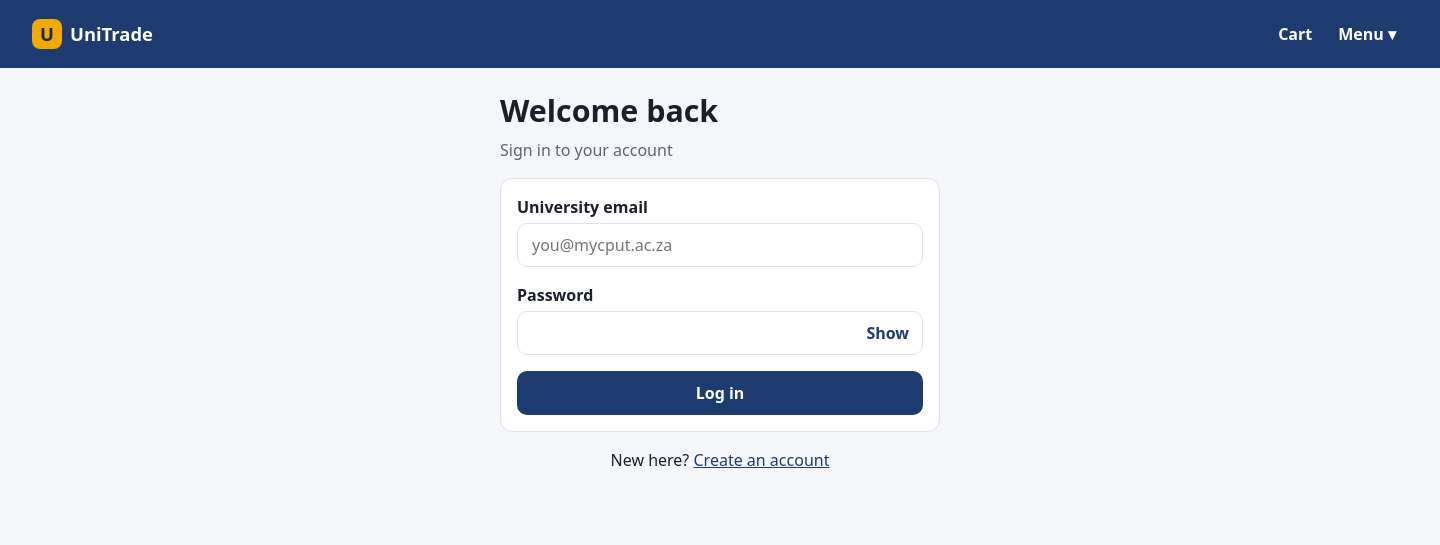
Test case: FR1 - authentication screens › fr1_04 login shows a friendly message for a wrong password and stays on the page
The width and height of the screenshot is (1440, 545).
Type "jane@mycput.ac.za" into the field labelled "University email".
click(720, 245); type("jane@mycput.ac.za")  # box [517, 223, 923, 267]
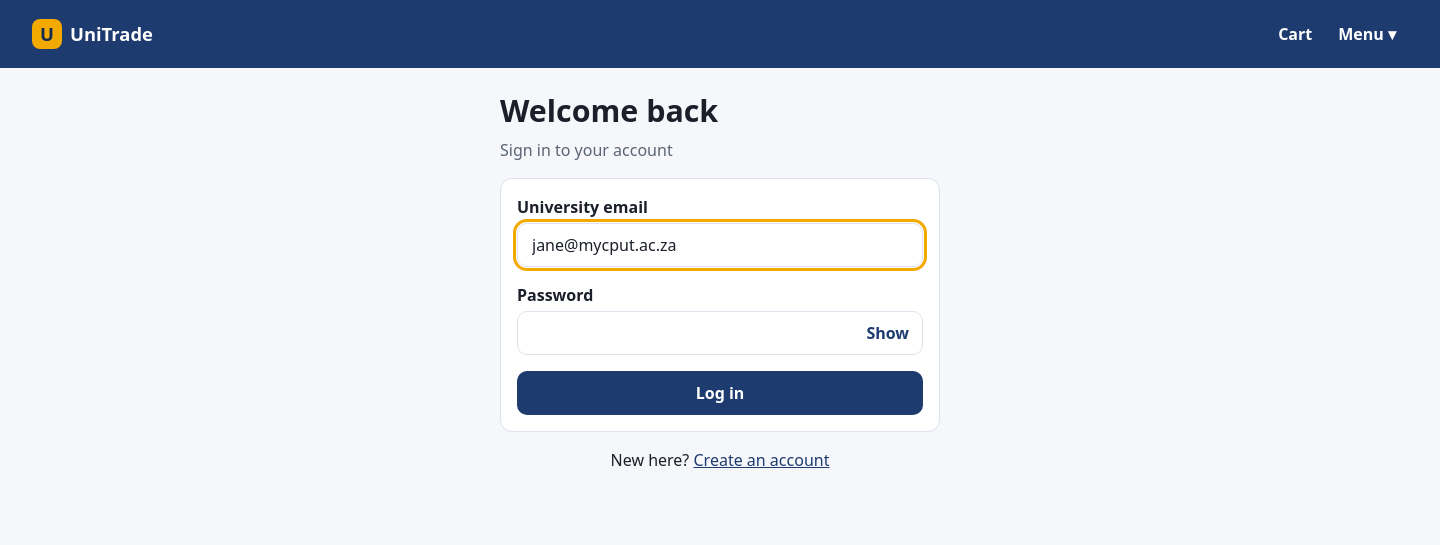
Type "WrongPassword1" into the password field labelled "Password".
click(720, 333); type("WrongPassword1")  # box [517, 311, 923, 355]
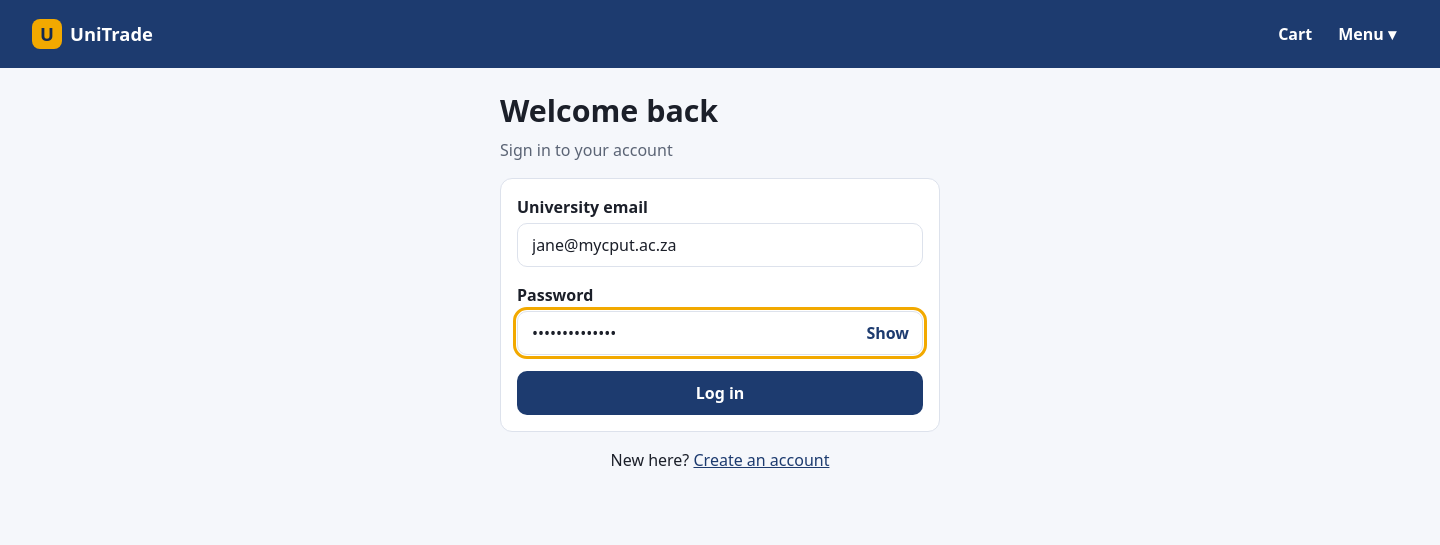
Click the button "Log in".
click(720, 393)  # box [517, 371, 923, 415]
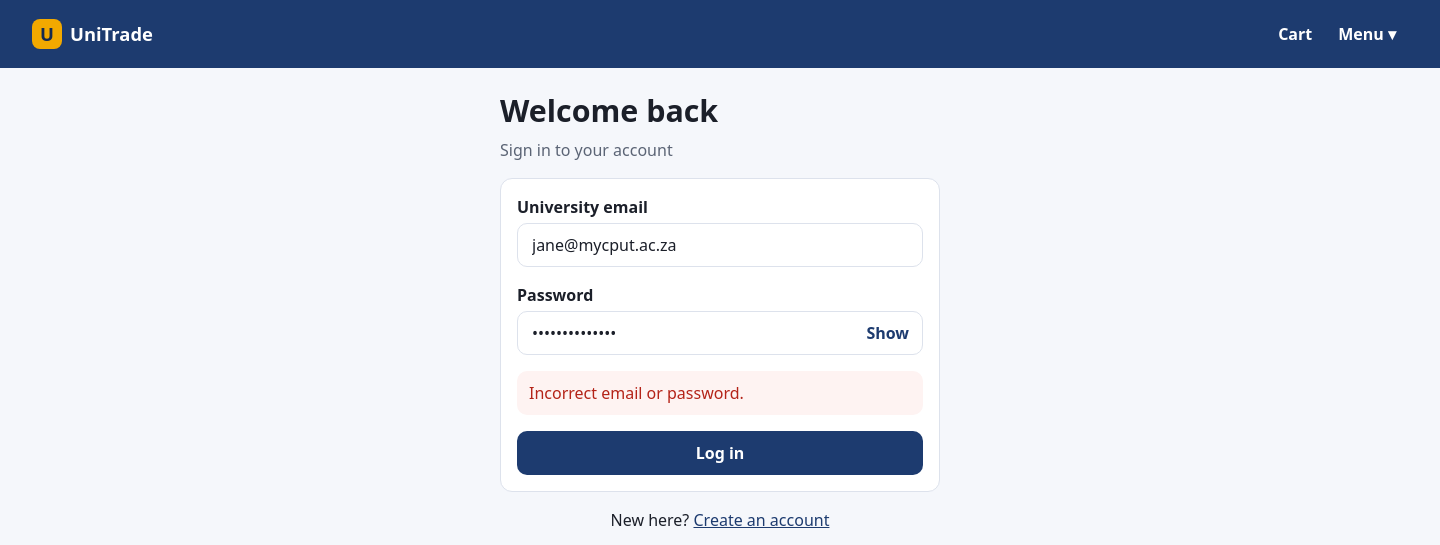
Expected: the heading "Welcome back" is shown, [500, 90, 718, 131]
Expected: the message reads "Incorrect email or password.", [529, 382, 744, 404]
